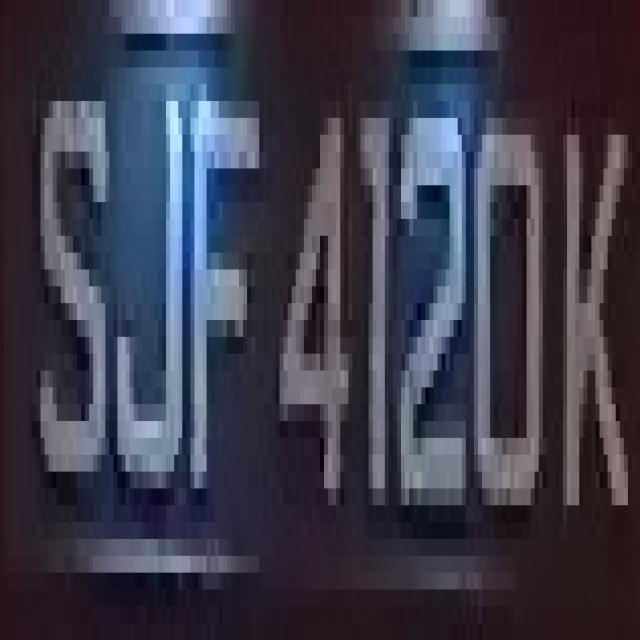0: (466, 101, 547, 505)
1: (360, 84, 389, 556)
2: (393, 51, 470, 522)
4: (272, 34, 352, 539)
F: (186, 67, 264, 539)
J: (114, 68, 190, 472)
K: (555, 67, 624, 556)
S: (36, 17, 106, 522)
